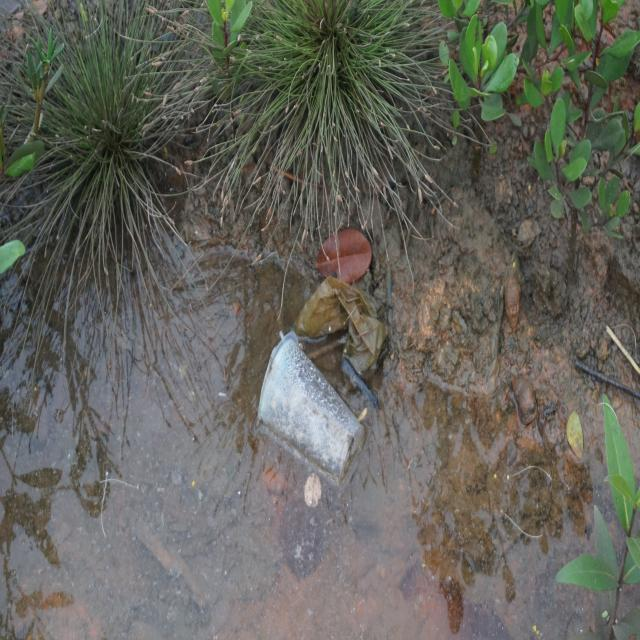Bungkus Minuman: (262, 324, 366, 488)
